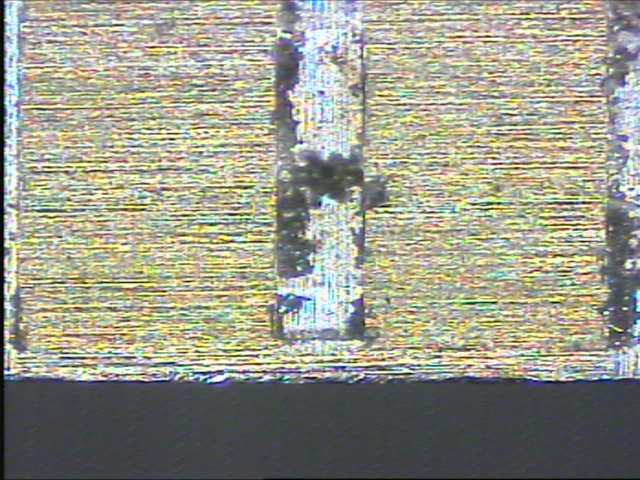line: (269, 1, 367, 346)
